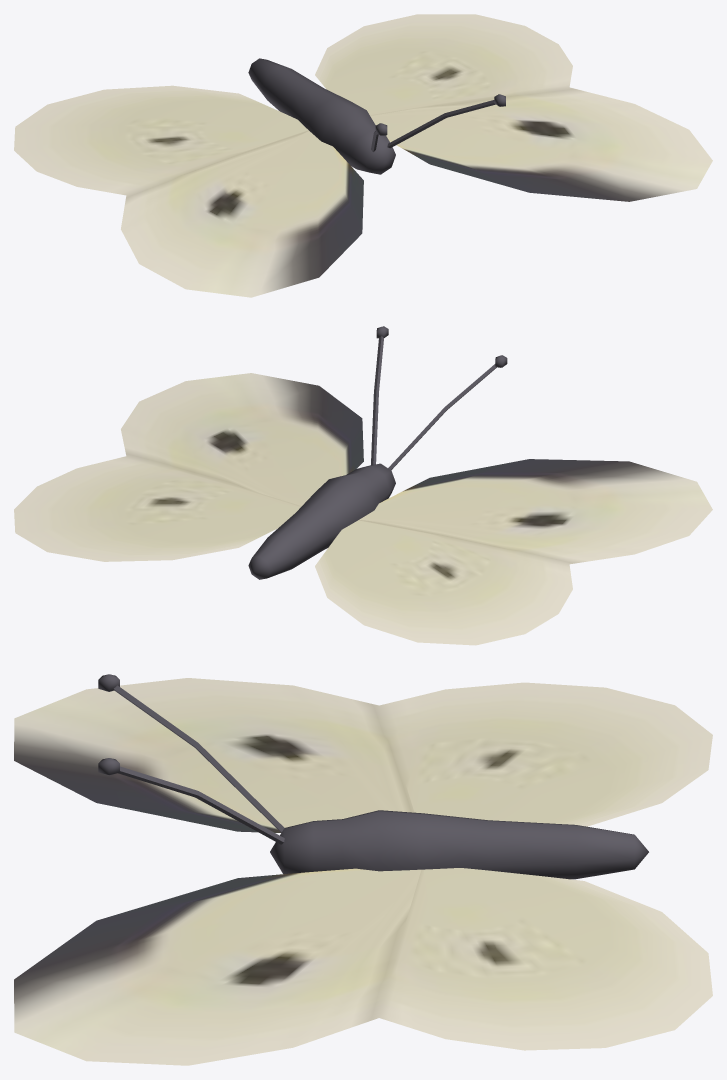
File: common-butterfly.glb
3 views of the same model, one above another, from view 1: azimuth 30°, elevation 25°; view 2: azimuth 150°, elevation 25°; view 3: azimuth 270°, elevation 25° (orthographic). The views are drawn at different scales.
Parts seen in each view (by area): view 1: common-butterfly; view 2: common-butterfly; view 3: common-butterfly.
Part boxes in pixels (x1,y1,x2,y2): common-butterfly: (14,14,712,297); common-butterfly: (14,326,712,645); common-butterfly: (14,674,712,1065).
Size of the model in its own units: 2.9 by 0.6154 by 2.21.
Materials: 2 (1 with a texture image).
